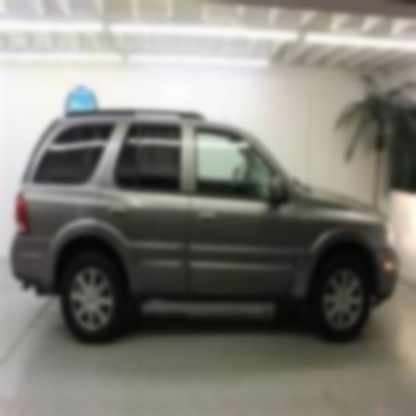Vehicle: (7, 104, 406, 354)
